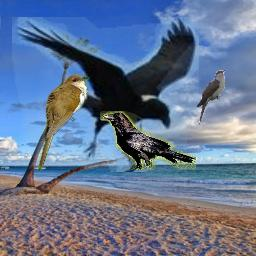Crow: (12, 17, 199, 172), (100, 111, 196, 170)
Cuckoo: (37, 74, 90, 172), (196, 70, 225, 126)
